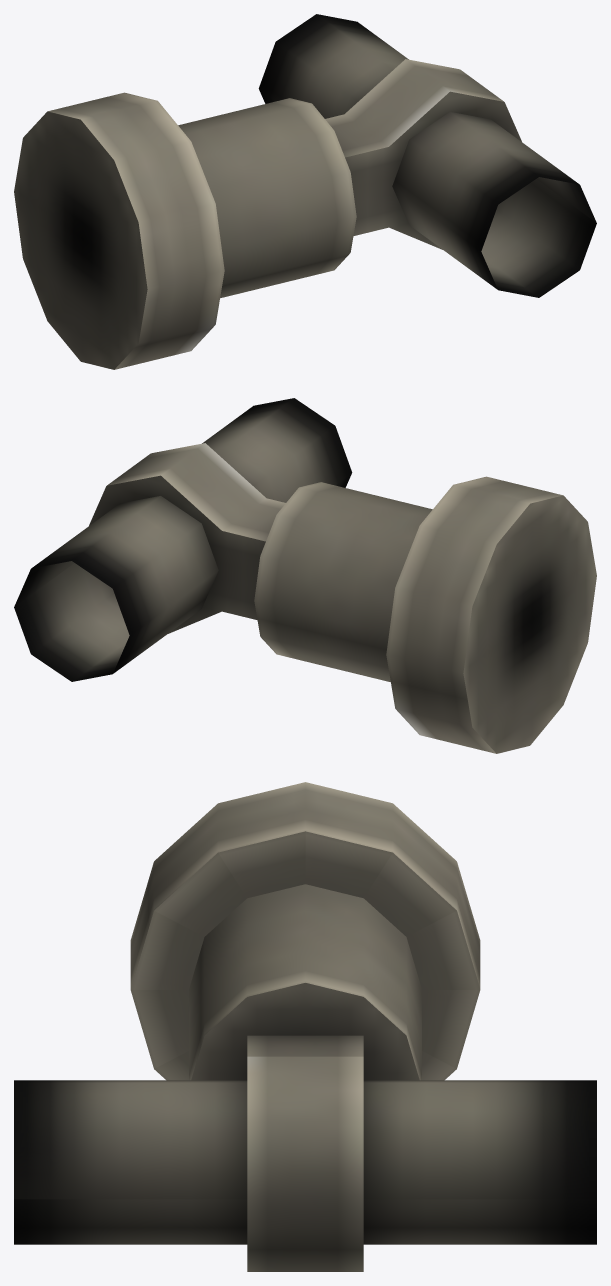
File: big_rotator.obj
The picture shows the model from 3 angles, top to bottom: view 1: azimuth 30°, elevation 25°; view 2: azimuth 150°, elevation 25°; view 3: azimuth 270°, elevation 25°; orthographic projection. The views are drawn at different scales.
Parts seen in each view (by area): view 1: 1; view 2: 1; view 3: 1.
Part boxes in pixels (box(x1,y1,x2,y2)): 1: box(14, 14, 596, 369); 1: box(14, 398, 596, 753); 1: box(14, 782, 596, 1271).
Size of the model in its own units: 0.1375 by 0.075 by 0.125.
Materials: 1 (1 with a texture image).
